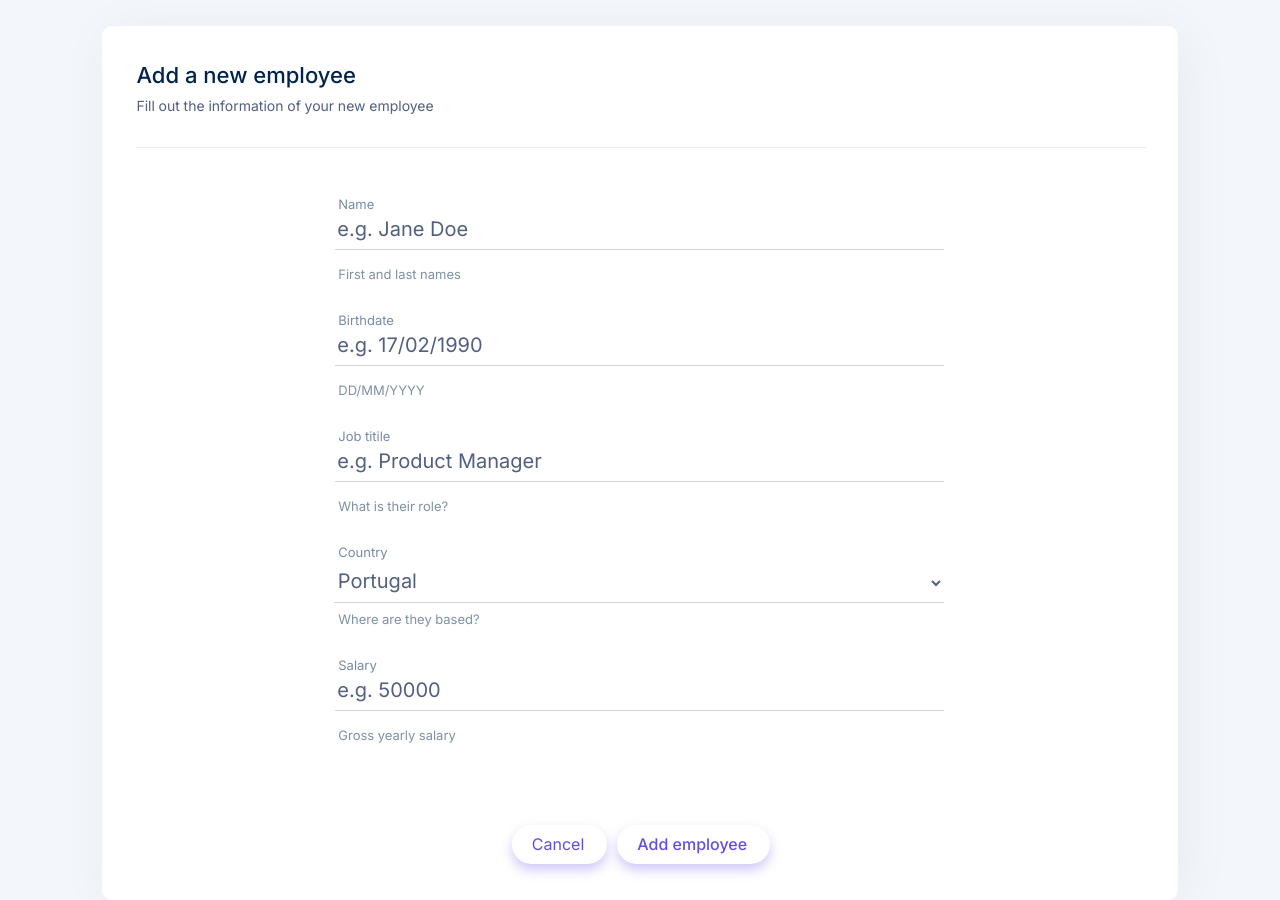
it: Adding page › should show error on validation name
(page scrolled)
Click the button with test id "add-button": (694, 844) [617,825,770,864]
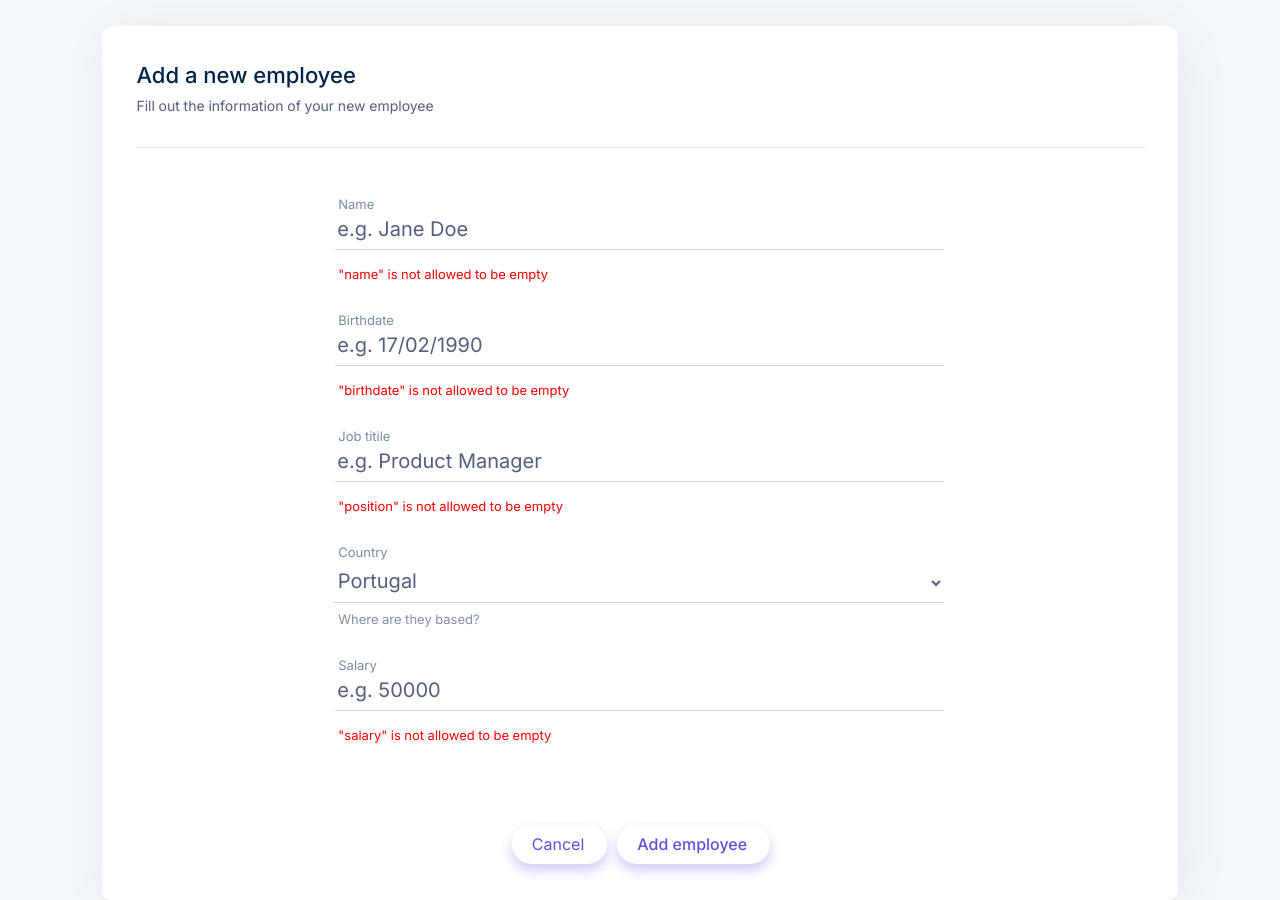
Result: the text "\"name\" is not allowed to be empty" is shown at [338,266,548,282]
